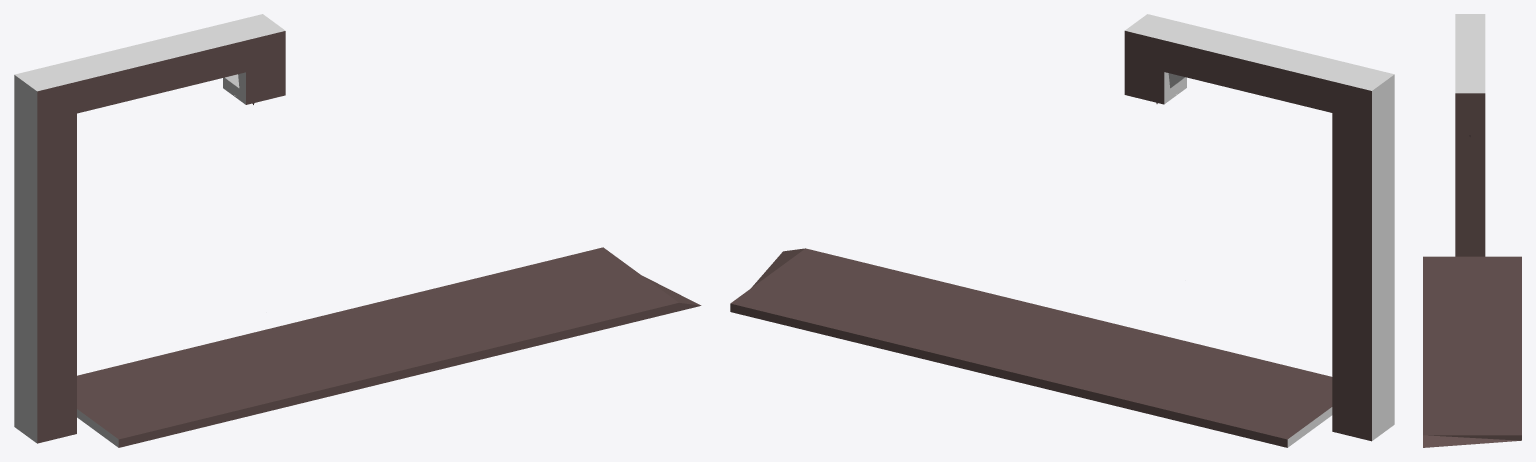
The model's file is PillarAndPlateInTheMiddle.fbx.
The picture shows the model from 3 angles, left to right: view 1: azimuth 30°, elevation 25°; view 2: azimuth 150°, elevation 25°; view 3: azimuth 270°, elevation 25°; orthographic projection. The views are drawn at different scales.
Parts seen in each view (by area): view 1: imagetostl_mesh32, imagetostl_mesh10, imagetostl_mesh2, imagetostl_mesh1, imagetostl_mesh29; view 2: imagetostl_mesh32, imagetostl_mesh11, imagetostl_mesh2, imagetostl_mesh1, imagetostl_mesh28; view 3: imagetostl_mesh32, imagetostl_mesh3, imagetostl_mesh1, imagetostl_mesh12, imagetostl_mesh30, imagetostl_mesh31.
Boxes of the visible parts, <box> form: imagetostl_mesh32: <box>77,247,678,439</box>; imagetostl_mesh10: <box>37,31,285,443</box>; imagetostl_mesh2: <box>14,75,37,443</box>; imagetostl_mesh1: <box>15,14,285,91</box>; imagetostl_mesh29: <box>118,303,700,447</box>; imagetostl_mesh32: <box>730,248,1332,439</box>; imagetostl_mesh11: <box>1124,31,1371,441</box>; imagetostl_mesh2: <box>1372,74,1394,440</box>; imagetostl_mesh1: <box>1125,14,1393,90</box>; imagetostl_mesh28: <box>730,303,1287,447</box>; imagetostl_mesh32: <box>1423,256,1521,435</box>; imagetostl_mesh3: <box>1455,135,1485,256</box>; imagetostl_mesh1: <box>1455,14,1485,93</box>; imagetostl_mesh12: <box>1455,93,1485,135</box>; imagetostl_mesh30: <box>1423,435,1520,447</box>; imagetostl_mesh31: <box>1428,435,1521,440</box>.
Bounding box in the file's own units: 50602 × 26625 × 10381.
